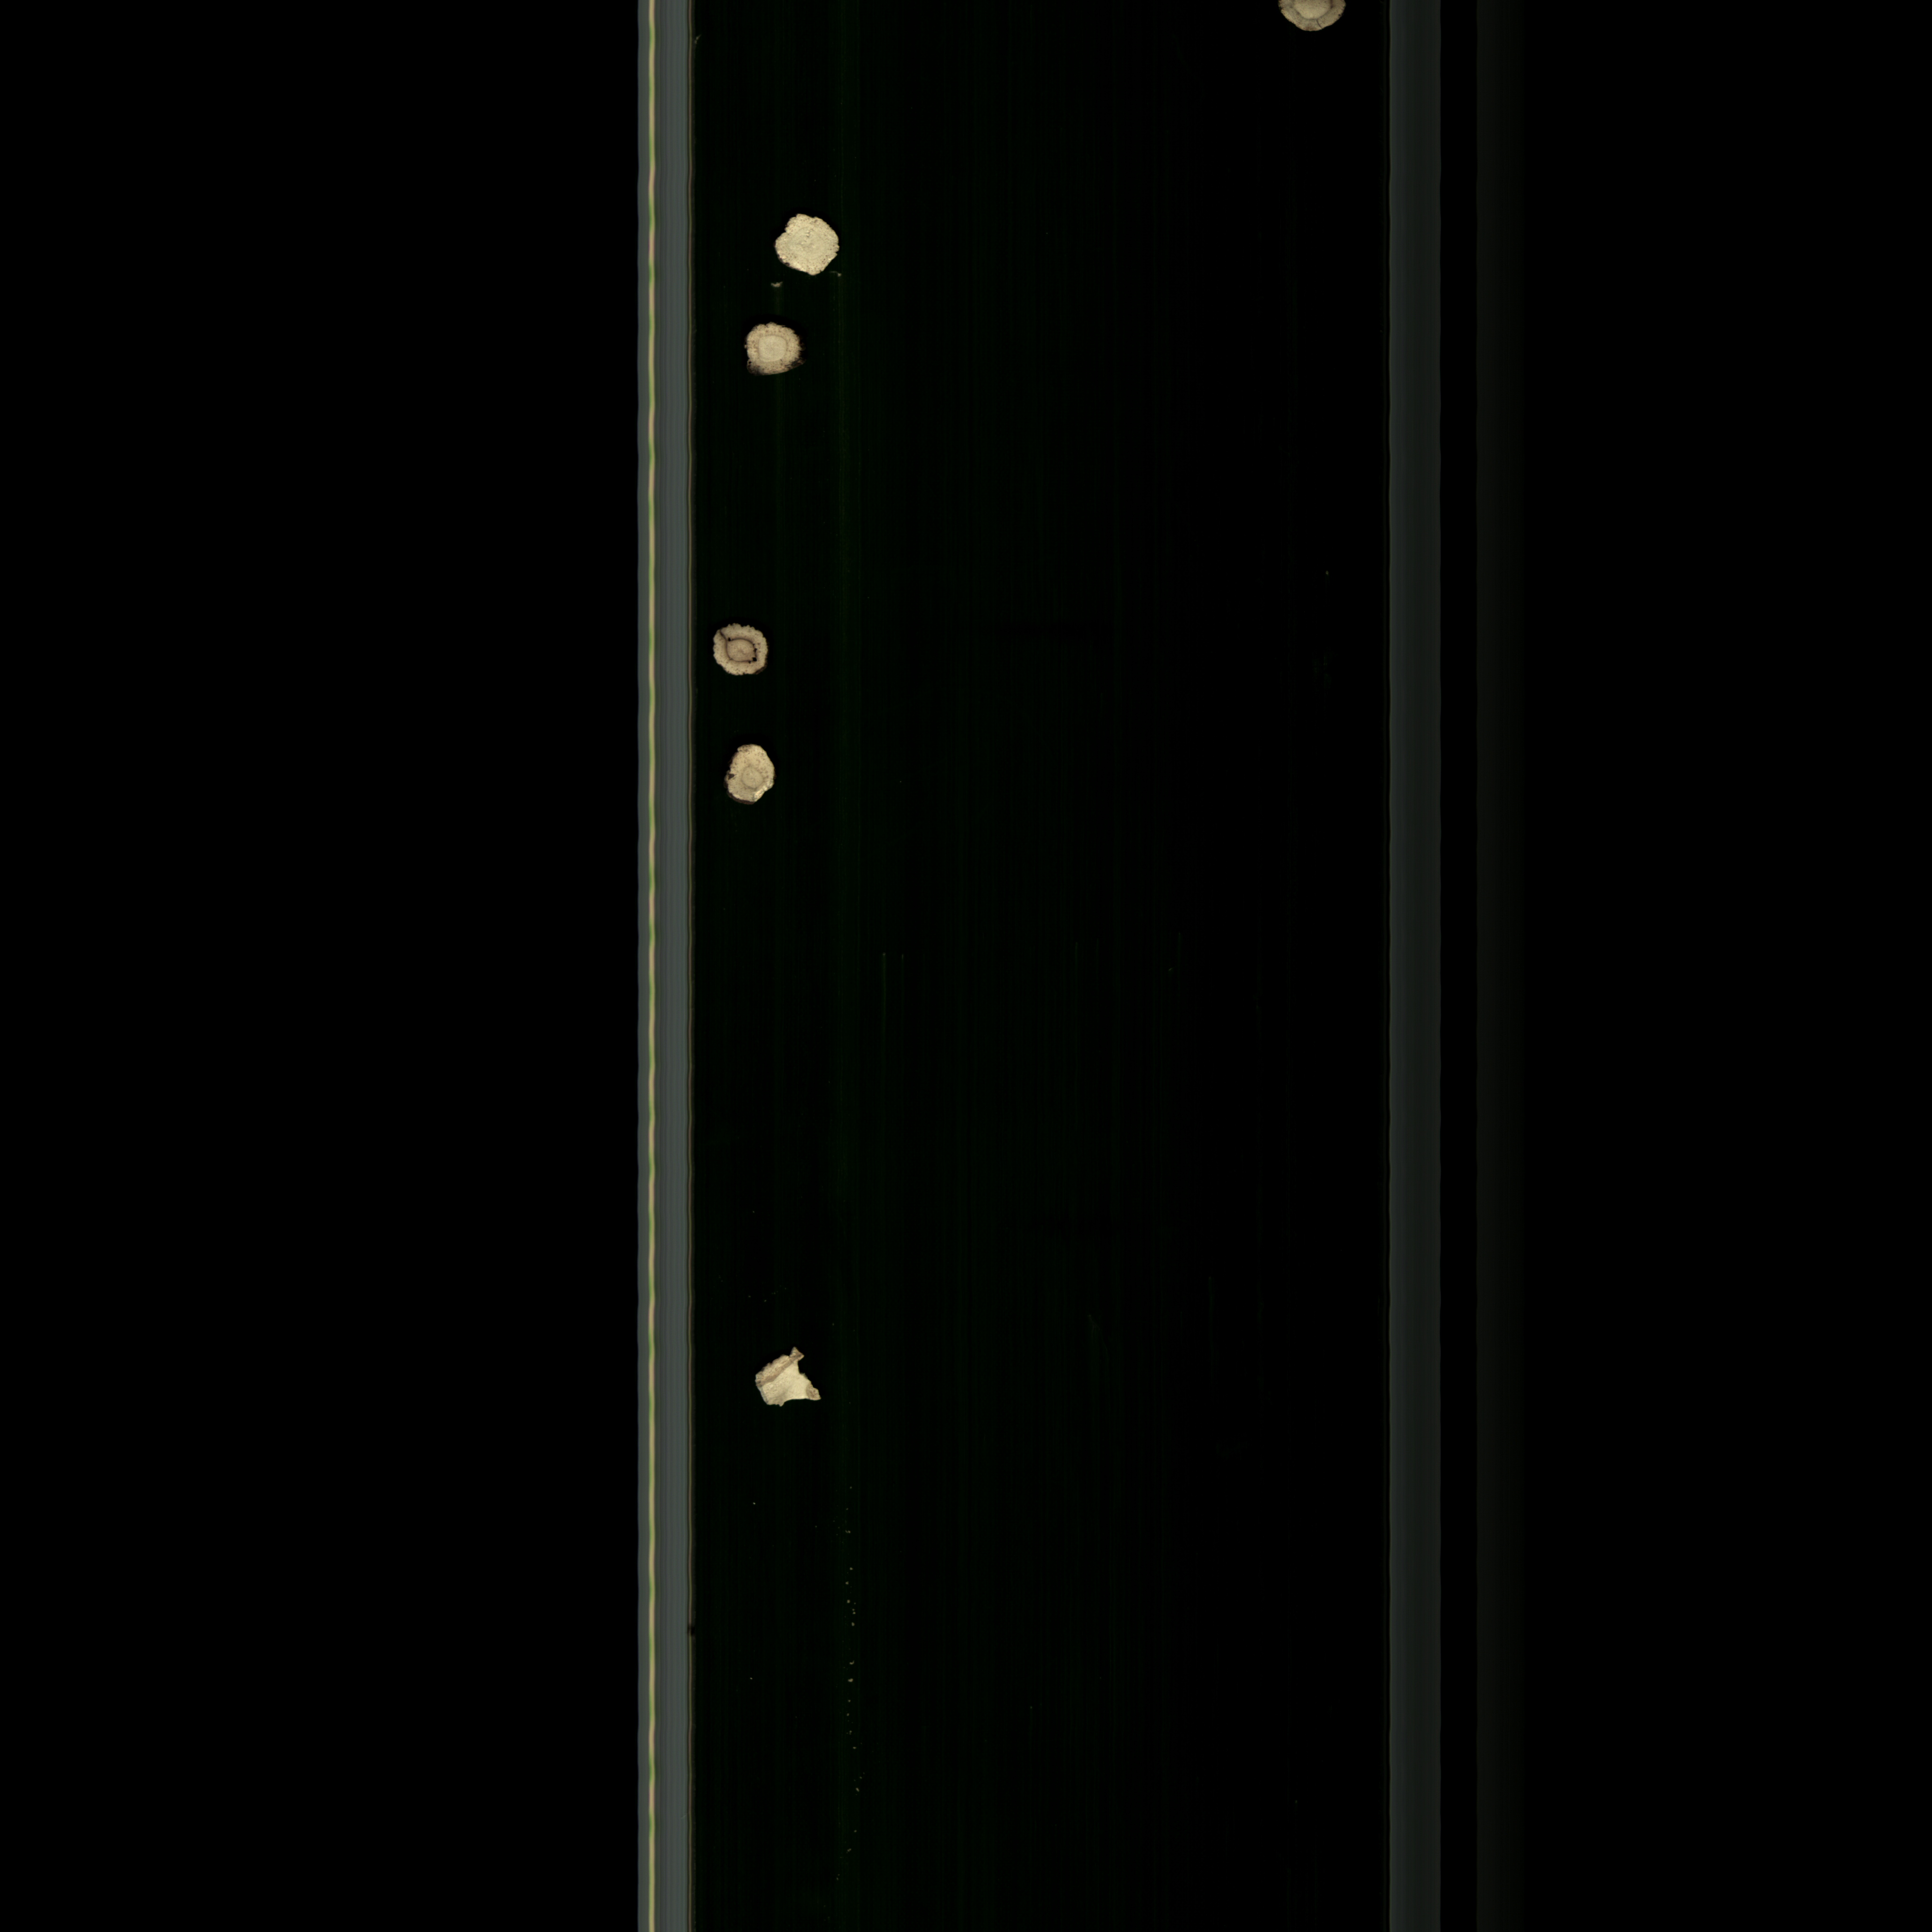debris: (740, 1339, 830, 1419), (722, 736, 786, 810)
distortion: (764, 205, 844, 281)
moldy: (706, 621, 777, 683), (745, 318, 809, 384), (1263, 0, 1368, 30)
